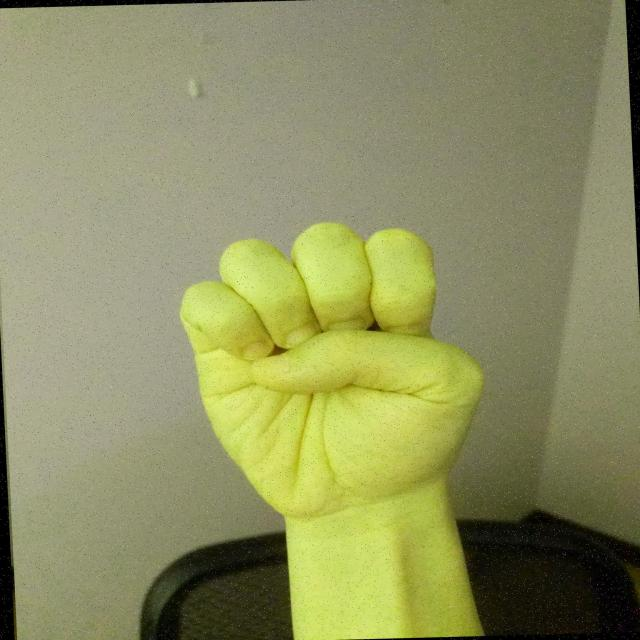E: (166, 213, 497, 527)
